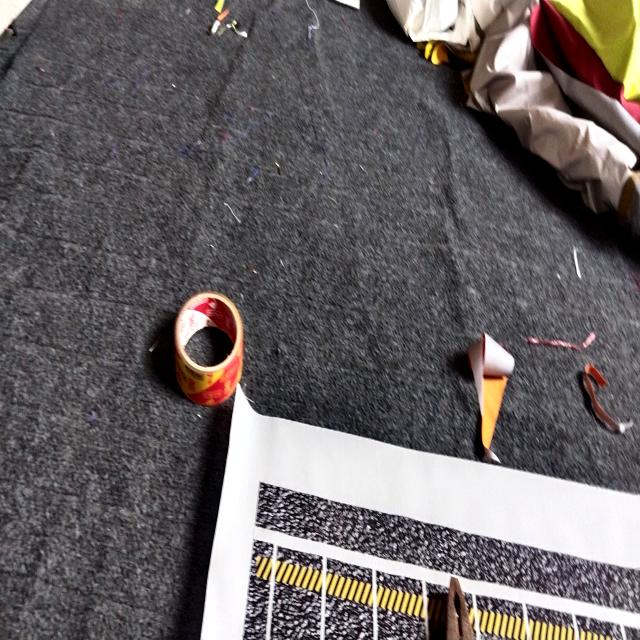others: (467, 0, 636, 213), (530, 0, 640, 124), (550, 0, 640, 102), (174, 292, 244, 406), (468, 333, 515, 450), (387, 0, 480, 51), (583, 364, 633, 433), (527, 332, 596, 351), (606, 123, 640, 156), (573, 246, 581, 279), (215, 9, 229, 25), (215, 0, 225, 13), (212, 28, 216, 33)
